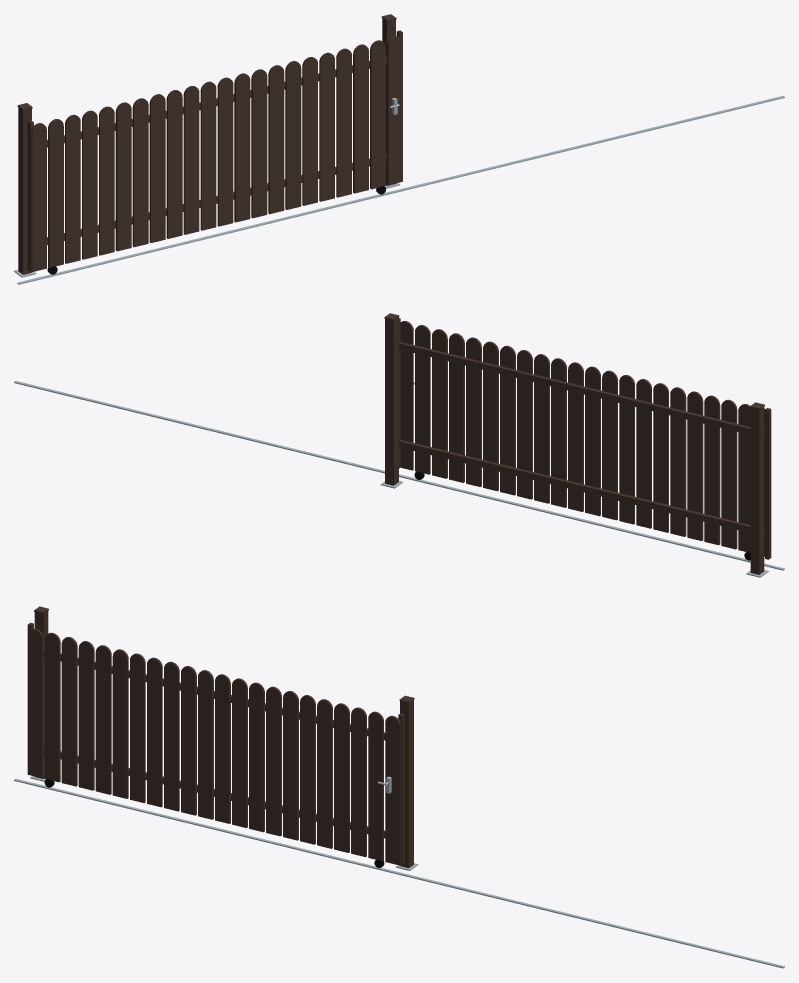
File: 10-klizna.glb
3 views of the same model, one above another, from view 1: azimuth 30°, elevation 25°; view 2: azimuth 150°, elevation 25°; view 3: azimuth 330°, elevation 25° (orthographic).
Visible parts, largest first — view 1: Okov_vodilica_demo.009, Ispuna_zaobljena_letvica.107, Ispuna_zaobljena_letvica.114, Ispuna_zaobljena_letvica.112, Ispuna_zaobljena_letvica.115, Ispuna_zaobljena_letvica.116, Ispuna_zaobljena_letvica.109, Ispuna_zaobljena_letvica.113, Ispuna_zaobljena_letvica.117, Ispuna_zaobljena_letvica.108, Ispuna_zaobljena_letvica.110, Ispuna_zaobljena_letvica.111 (+13 smaller); view 2: Ram_poprecni_nosac.018, Ram_poprecni_nosac.019, Okov_vodilica_demo.009, Stub_levi.039, Stub_desni.039, Ispuna_zaobljena_letvica.107, Ispuna_zaobljena_letvica.104, Ispuna_zaobljena_letvica.105, Ispuna_zaobljena_letvica.106, Ispuna_zaobljena_letvica.112, Ispuna_zaobljena_letvica.114, Ispuna_zaobljena_letvica.117 (+15 smaller); view 3: Okov_vodilica_demo.009, Ispuna_zaobljena_letvica.102, Ispuna_zaobljena_letvica.104, Ispuna_zaobljena_letvica.105, Ispuna_zaobljena_letvica.106, Ispuna_zaobljena_letvica.107, Ispuna_zaobljena_letvica.103, Ispuna_zaobljena_letvica.109, Ispuna_zaobljena_letvica.119, Ispuna_zaobljena_letvica.121, Ispuna_zaobljena_letvica.112, Ispuna_zaobljena_letvica.120 (+13 smaller).
Boxes of the visible parts, box(x1,y1,x2,y2) form: Okov_vodilica_demo.009: box(17, 96, 784, 284); Ispuna_zaobljena_letvica.107: box(115, 102, 131, 251); Ispuna_zaobljena_letvica.114: box(234, 73, 250, 222); Ispuna_zaobljena_letvica.112: box(200, 81, 216, 230); Ispuna_zaobljena_letvica.115: box(251, 69, 267, 218); Ispuna_zaobljena_letvica.116: box(268, 65, 284, 213); Ispuna_zaobljena_letvica.109: box(149, 94, 165, 242); Ispuna_zaobljena_letvica.113: box(217, 77, 233, 226); Ispuna_zaobljena_letvica.117: box(285, 61, 301, 209); Ispuna_zaobljena_letvica.108: box(132, 98, 148, 247); Ispuna_zaobljena_letvica.110: box(166, 90, 182, 238); Ispuna_zaobljena_letvica.111: box(183, 86, 199, 234); Ram_poprecni_nosac.018: box(399, 439, 770, 536); Ram_poprecni_nosac.019: box(399, 341, 770, 438); Okov_vodilica_demo.009: box(14, 381, 784, 570); Stub_levi.039: box(750, 407, 764, 574); Stub_desni.039: box(385, 317, 398, 485); Ispuna_zaobljena_letvica.107: box(670, 387, 686, 536); Ispuna_zaobljena_letvica.104: box(721, 399, 737, 549); Ispuna_zaobljena_letvica.105: box(704, 395, 720, 545); Ispuna_zaobljena_letvica.106: box(687, 391, 703, 540); Ispuna_zaobljena_letvica.112: box(585, 366, 600, 516); Ispuna_zaobljena_letvica.114: box(551, 358, 566, 507); Ispuna_zaobljena_letvica.117: box(500, 345, 515, 495); Okov_vodilica_demo.009: box(14, 778, 784, 968); Ispuna_zaobljena_letvica.102: box(27, 628, 43, 778); Ispuna_zaobljena_letvica.104: box(61, 637, 77, 786); Ispuna_zaobljena_letvica.105: box(78, 641, 94, 790); Ispuna_zaobljena_letvica.106: box(95, 645, 111, 794); Ispuna_zaobljena_letvica.107: box(112, 649, 128, 798); Ispuna_zaobljena_letvica.103: box(44, 632, 60, 782); Ispuna_zaobljena_letvica.109: box(147, 657, 162, 807); Ispuna_zaobljena_letvica.119: box(317, 699, 332, 848); Ispuna_zaobljena_letvica.121: box(351, 707, 366, 857); Ispuna_zaobljena_letvica.112: box(198, 670, 213, 819); Ispuna_zaobljena_letvica.120: box(334, 703, 349, 852).
Bounding box in the file's own units: 8.63 × 1.8 × 0.38.
